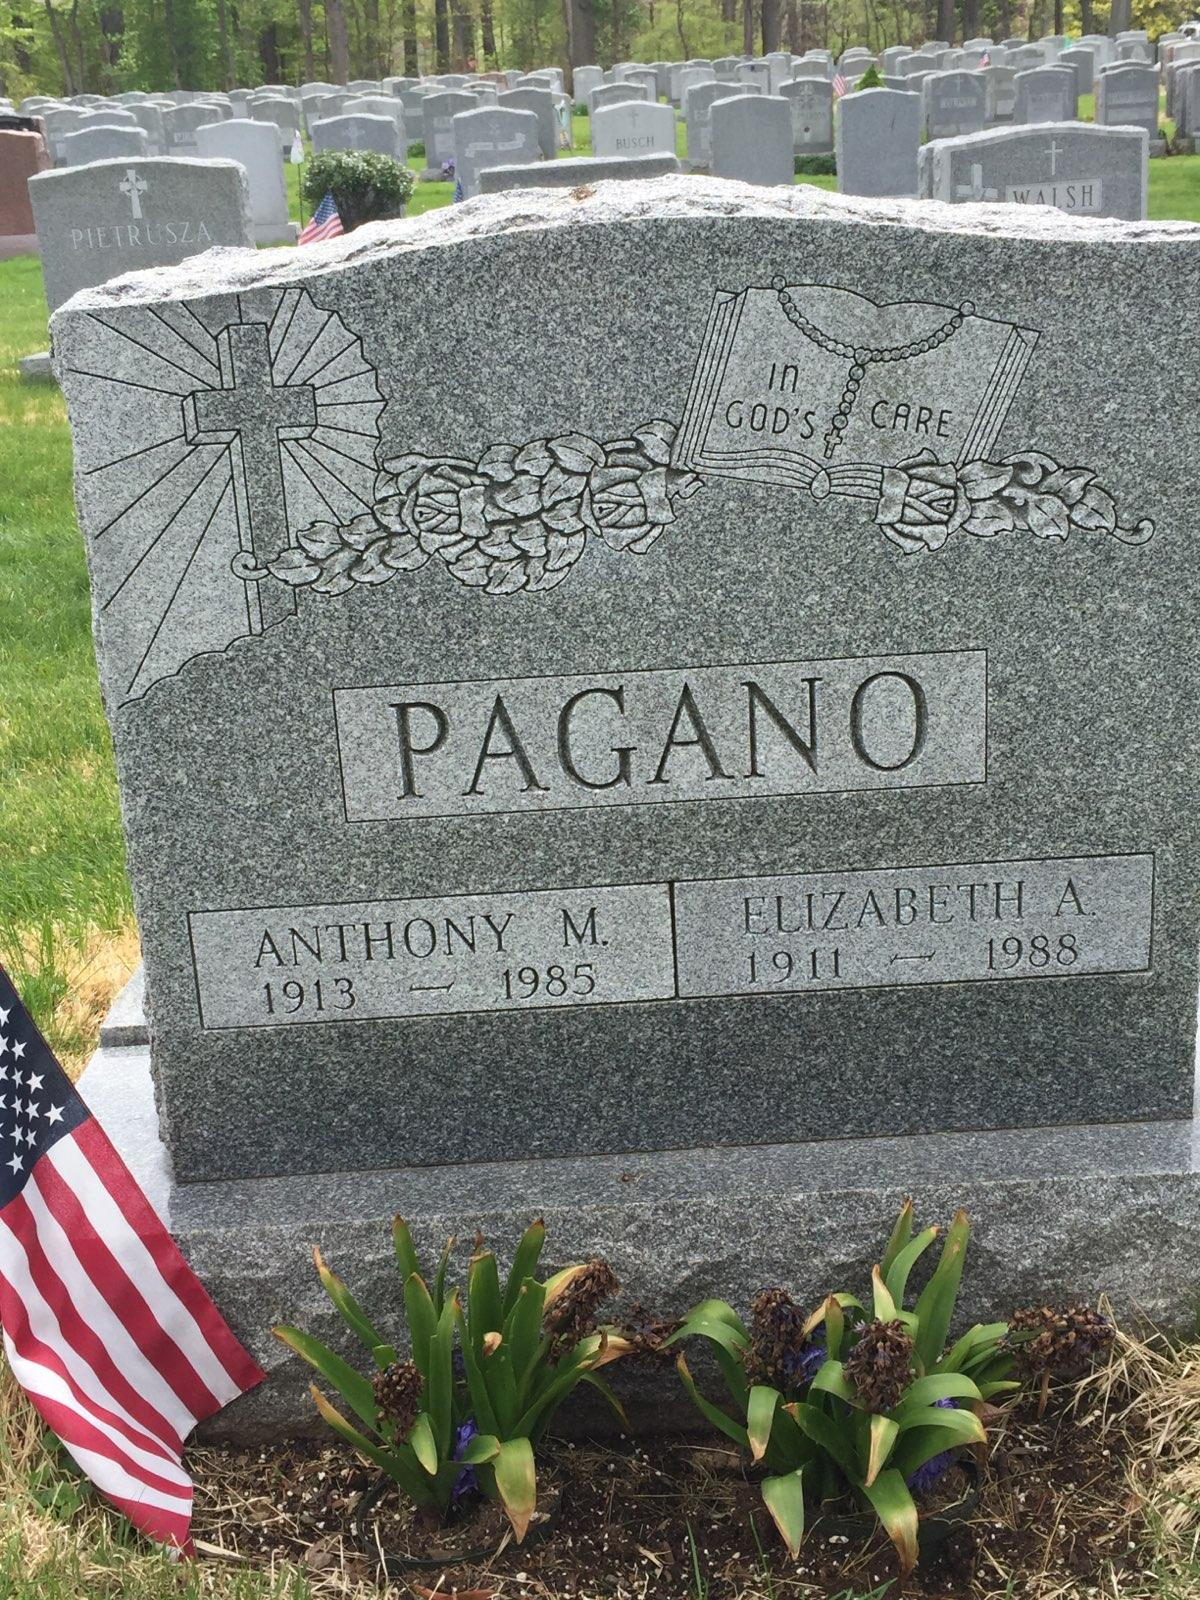upright: (47, 191, 1199, 1416)
